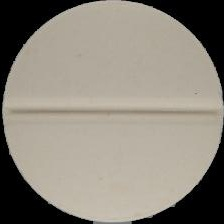69189-0020: (0, 0, 224, 224)
